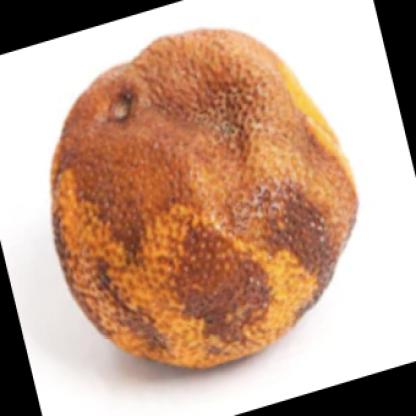rotten_orange: (43, 23, 362, 368)
